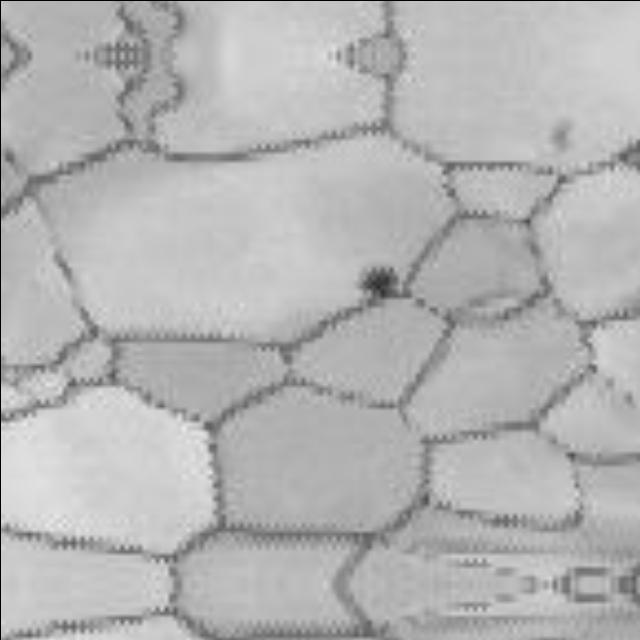good_void: (352, 264, 404, 302)
